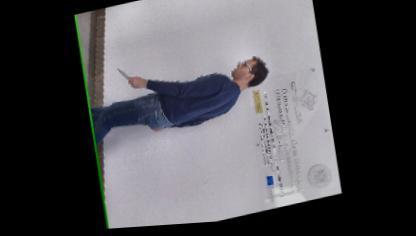knife: (113, 64, 136, 92)
